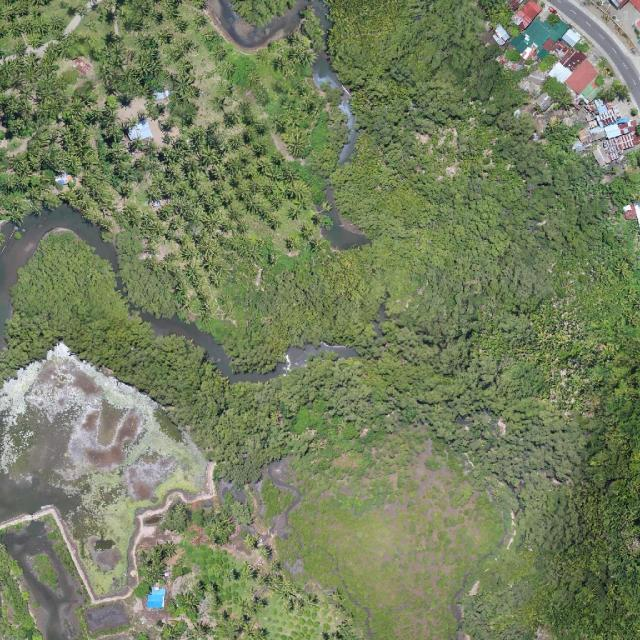building: (509, 4, 572, 67), (549, 45, 610, 104), (507, 15, 559, 58)
dryland: (0, 498, 133, 640)
unmetalled_road: (102, 449, 231, 579)
wetland: (130, 301, 287, 399), (306, 47, 368, 166), (314, 206, 369, 261), (288, 338, 316, 368), (309, 0, 335, 30), (324, 186, 334, 201)
